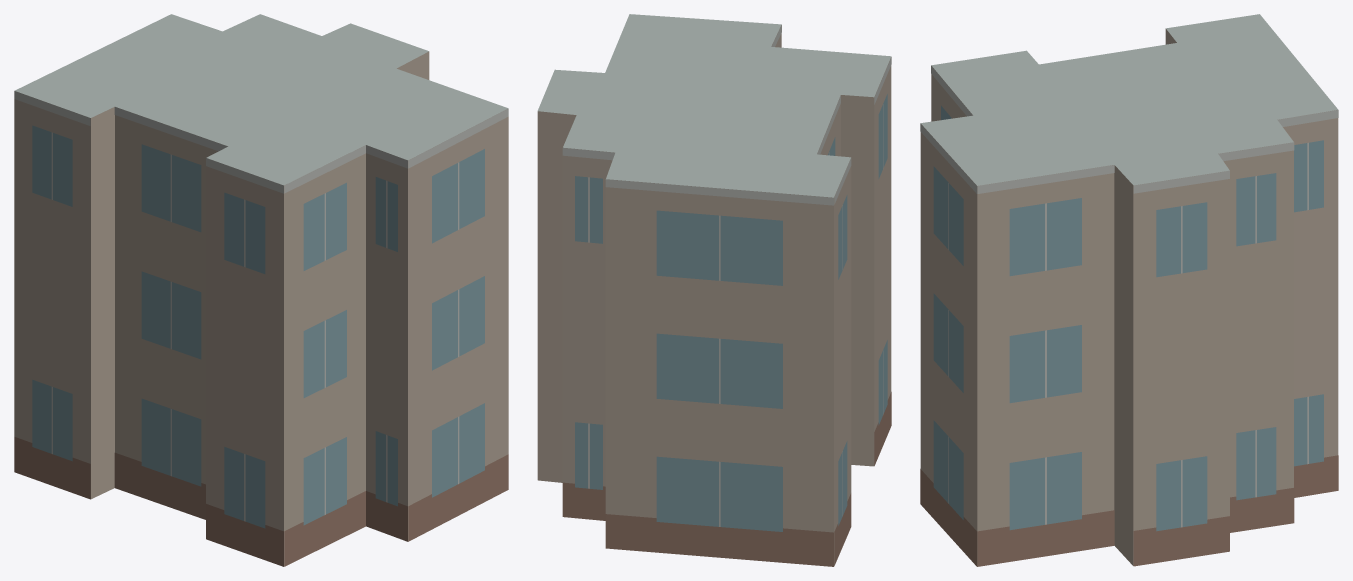
File: survey-upis-33001494.glb
3 renders of one model, left to right at view 1: azimuth 30°, elevation 25°; view 2: azimuth 150°, elevation 25°; view 3: azimuth 270°, elevation 25°, orthographic. The views are drawn at different scales.
Parts seen in each view (by area): view 1: survey-upis-33001494.tmp; view 2: survey-upis-33001494.tmp; view 3: survey-upis-33001494.tmp.
Boxes of the visible parts, x1,y1,x2,y2 form: survey-upis-33001494.tmp: (14, 14, 508, 566); survey-upis-33001494.tmp: (537, 14, 891, 566); survey-upis-33001494.tmp: (920, 14, 1338, 566).
Bounding box in the file's own units: 10.9 × 11.25 × 11.2.
